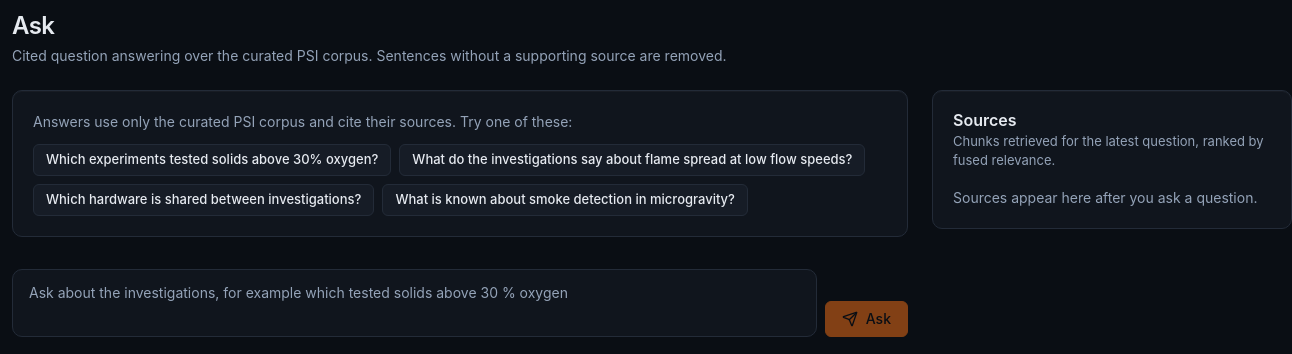
Test case: Ask page /ask (doc 10 section 5, CF-09) › FR-11: loading state shows a waiting skeleton while the stream is open
Replace the text in the text box with test id "ask-input" with "Which experiments tested solids above 30% oxygen?" at {"x": 414, "y": 303}, box [12,269,817,337]
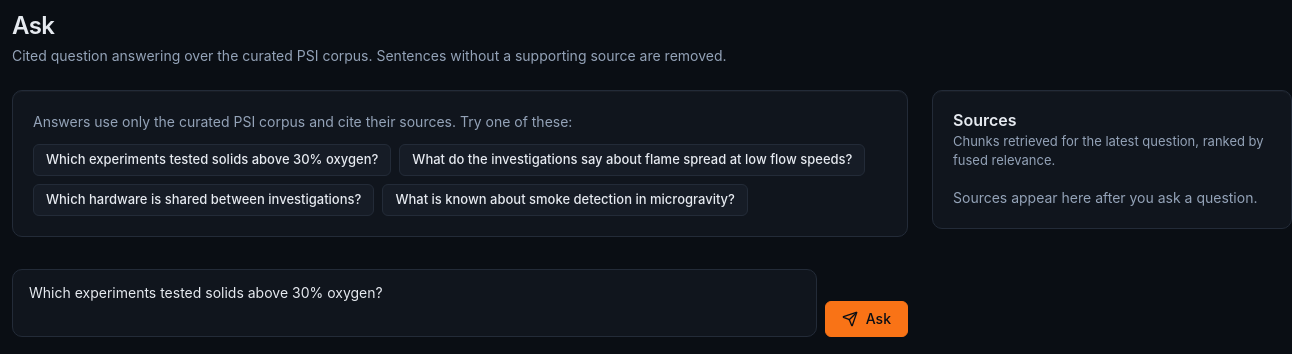
Click the button "Ask" at {"x": 866, "y": 319}, box [825,301,908,337]
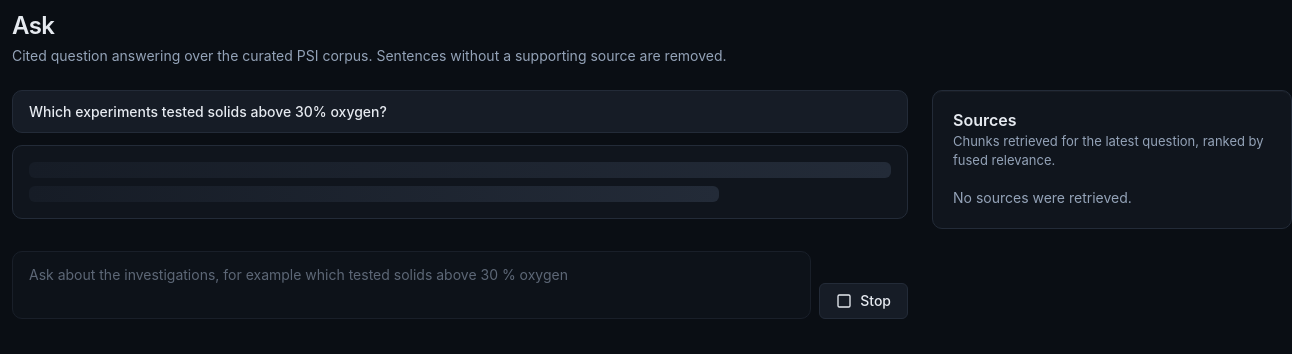
Expected: the message named "Waiting for answer" is shown, [29,162,891,202]
Expected: the button "Stop" is shown, [819,283,908,319]
